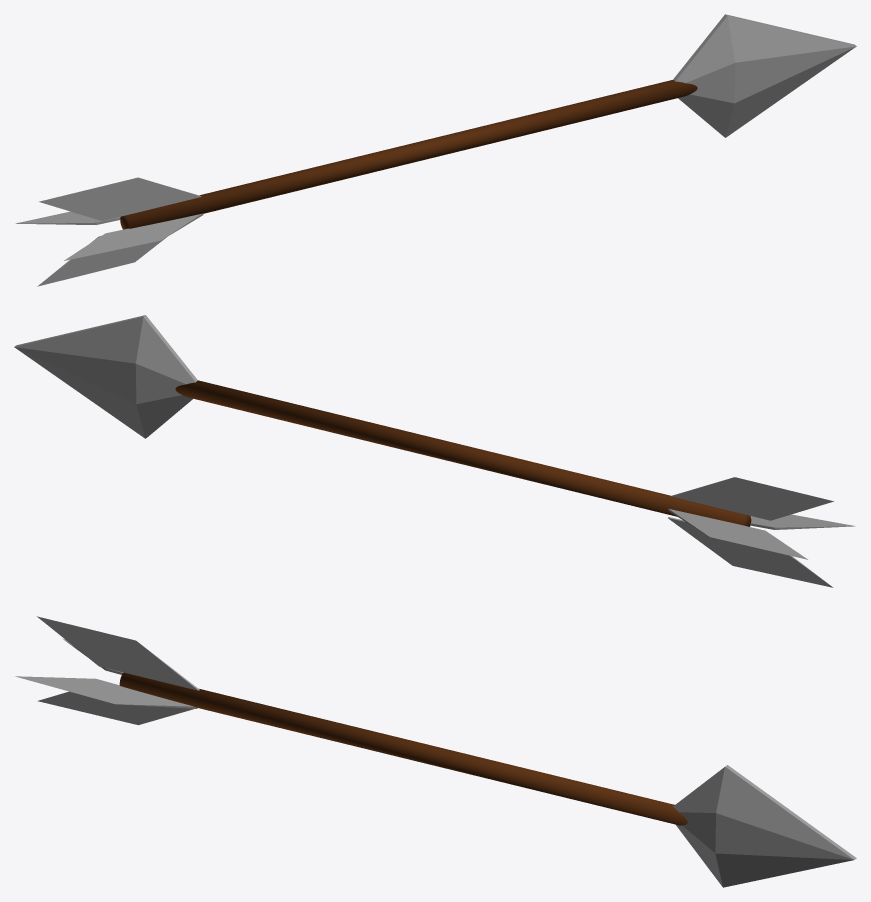
Rendered from Arrow.fbx.
3 views of the same model, one above another, from view 1: azimuth 30°, elevation 25°; view 2: azimuth 150°, elevation 25°; view 3: azimuth 330°, elevation 25° (orthographic).
Parts seen in each view (by area): view 1: Arrow; view 2: Arrow; view 3: Arrow.
Part boxes in pixels (<box>): Arrow: <box>15,14,856,286</box>; Arrow: <box>14,315,855,587</box>; Arrow: <box>15,616,856,887</box>.
Bounding box in the file's own units: 483 × 68.49 × 49.67.
